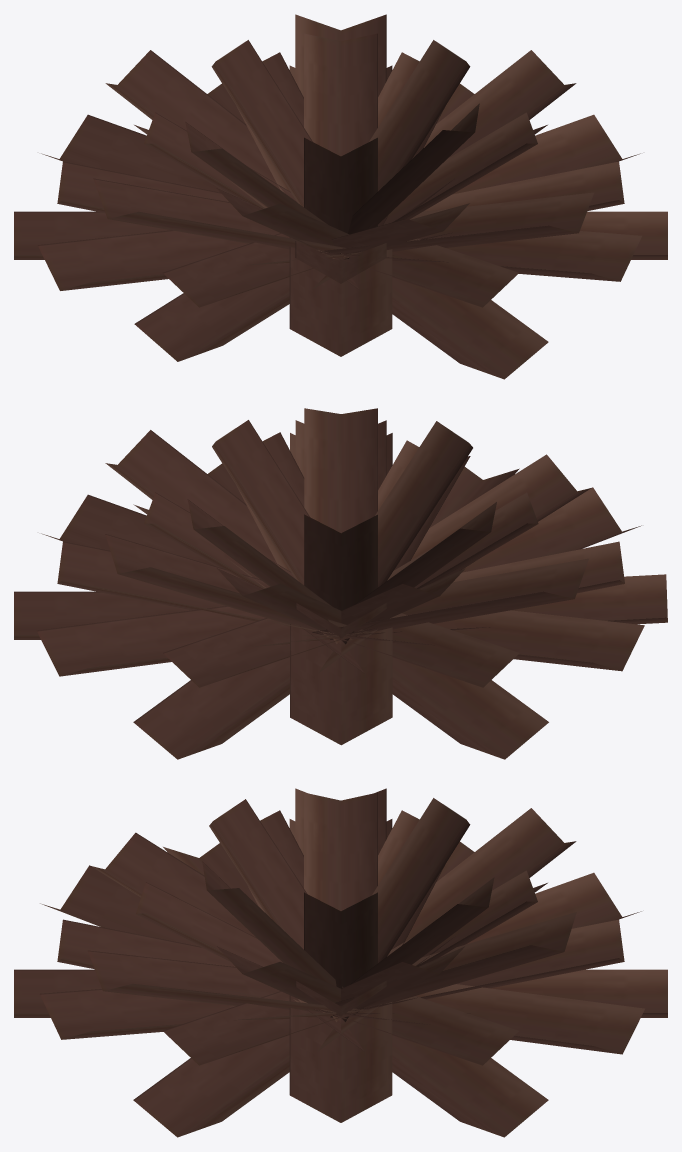
The model's file is Canyon_Leafs_1.glb.
3 views of the same model, one above another, from view 1: azimuth 30°, elevation 25°; view 2: azimuth 150°, elevation 25°; view 3: azimuth 270°, elevation 25° (orthographic).
Parts seen in each view (by area): view 1: Canyon_Leafs_1_0; view 2: Canyon_Leafs_1_0; view 3: Canyon_Leafs_1_0.
Boxes of the visible parts, x1=… form: Canyon_Leafs_1_0: x1=14, y1=14, x2=667, y2=379; Canyon_Leafs_1_0: x1=14, y1=408, x2=667, y2=759; Canyon_Leafs_1_0: x1=14, y1=788, x2=667, y2=1137.
Size of the model in its own units: 1.16 by 0.3552 by 1.17.
Materials: 1 (1 with a texture image).
